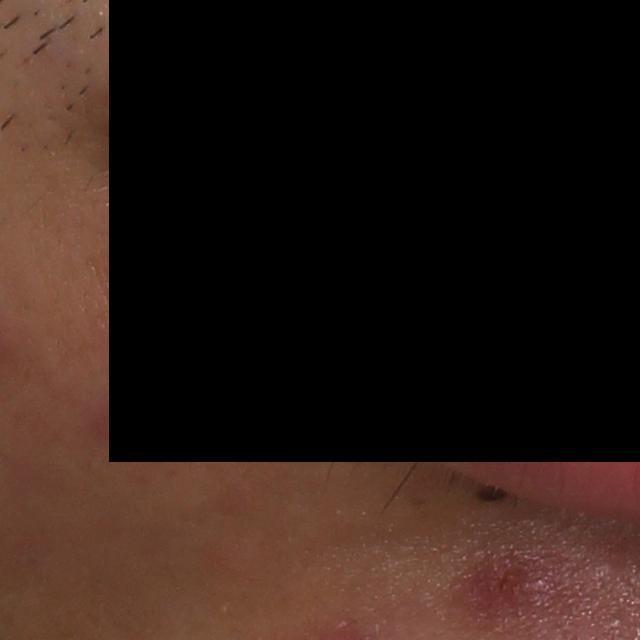nevus: (473, 479, 507, 502)
papule: (469, 551, 564, 613)
